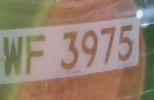3: (57, 29, 81, 72)
5: (115, 21, 137, 63)
7: (97, 24, 118, 66)
9: (79, 25, 101, 72)
F: (24, 30, 49, 81)
W: (1, 32, 25, 84)
